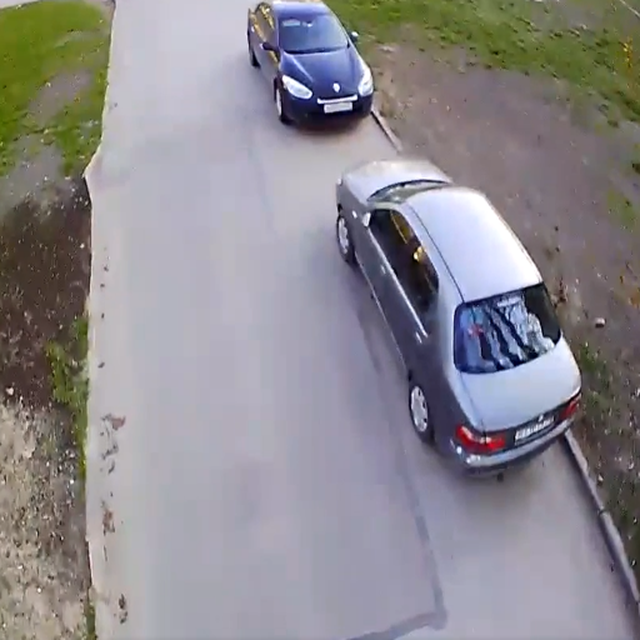car: (334, 159, 584, 475), (243, 1, 375, 129)
